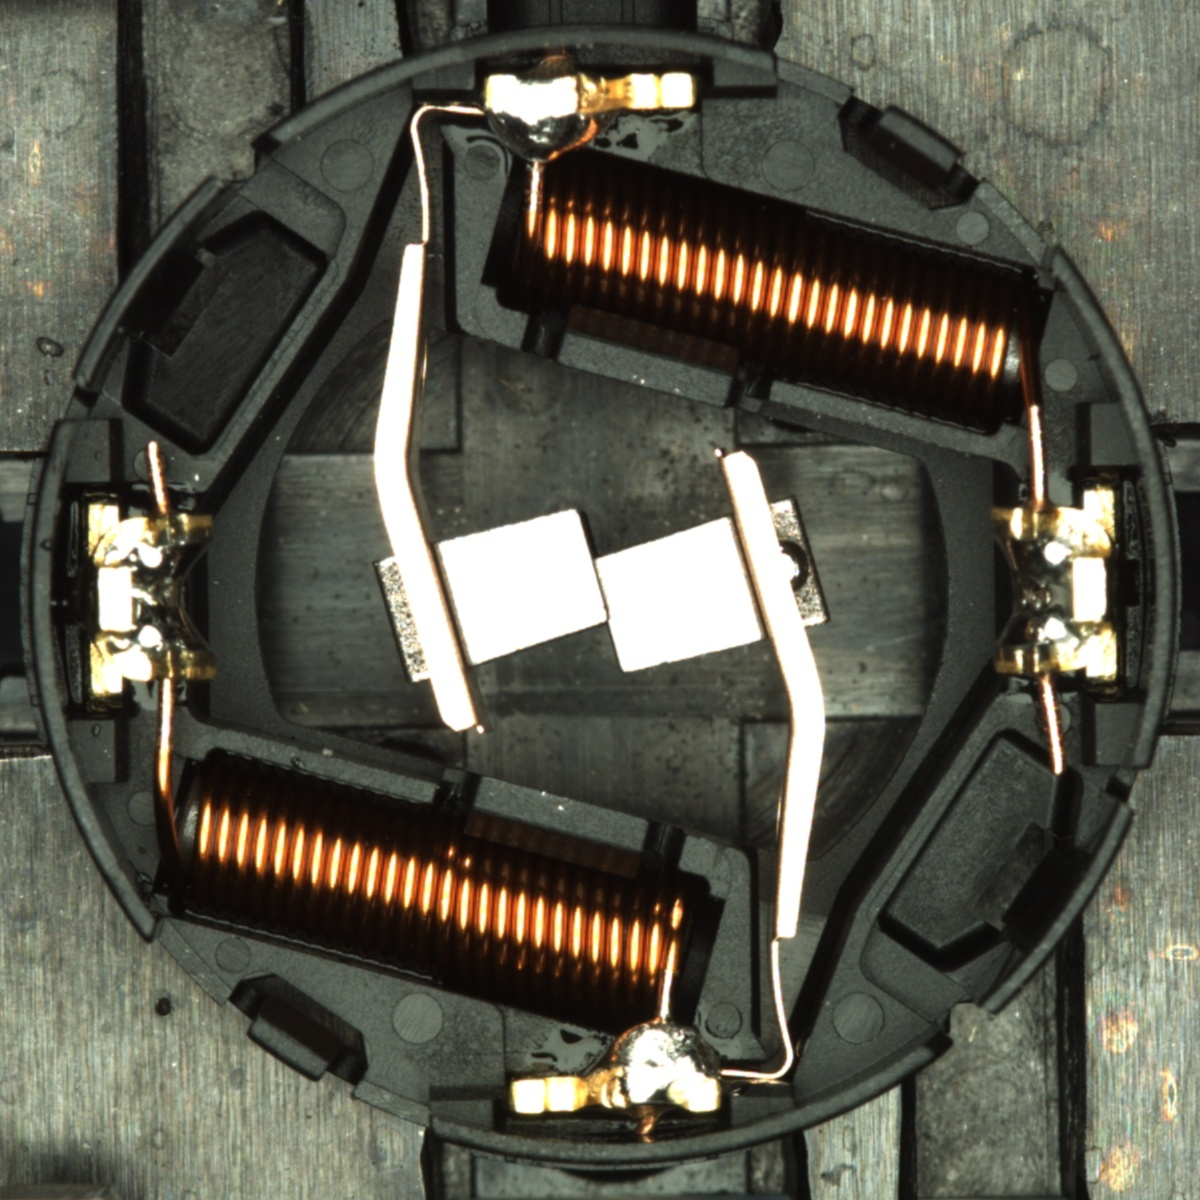1: (258, 55, 487, 279), (716, 953, 945, 1177)
2: (716, 55, 945, 279), (258, 953, 487, 1177)
3: (29, 279, 258, 503), (945, 729, 1175, 953)
4: (258, 279, 487, 503), (716, 729, 945, 953)
5: (487, 167, 716, 391), (487, 841, 716, 1065)
6: (716, 279, 945, 503), (258, 729, 487, 953)
7: (945, 279, 1175, 503), (29, 729, 258, 953)
chau_dien: (80, 497, 221, 698), (984, 488, 1123, 686)
hat_chi: (778, 538, 809, 592)
tay_choi: (484, 67, 700, 166), (509, 1016, 722, 1116)
thanh_de: (954, 786, 1142, 1031), (58, 164, 245, 405)
